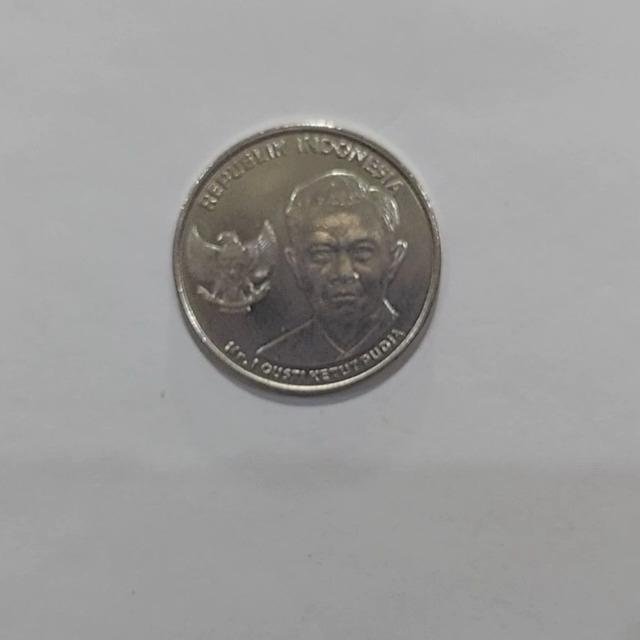Rp100: (172, 122, 442, 397)
